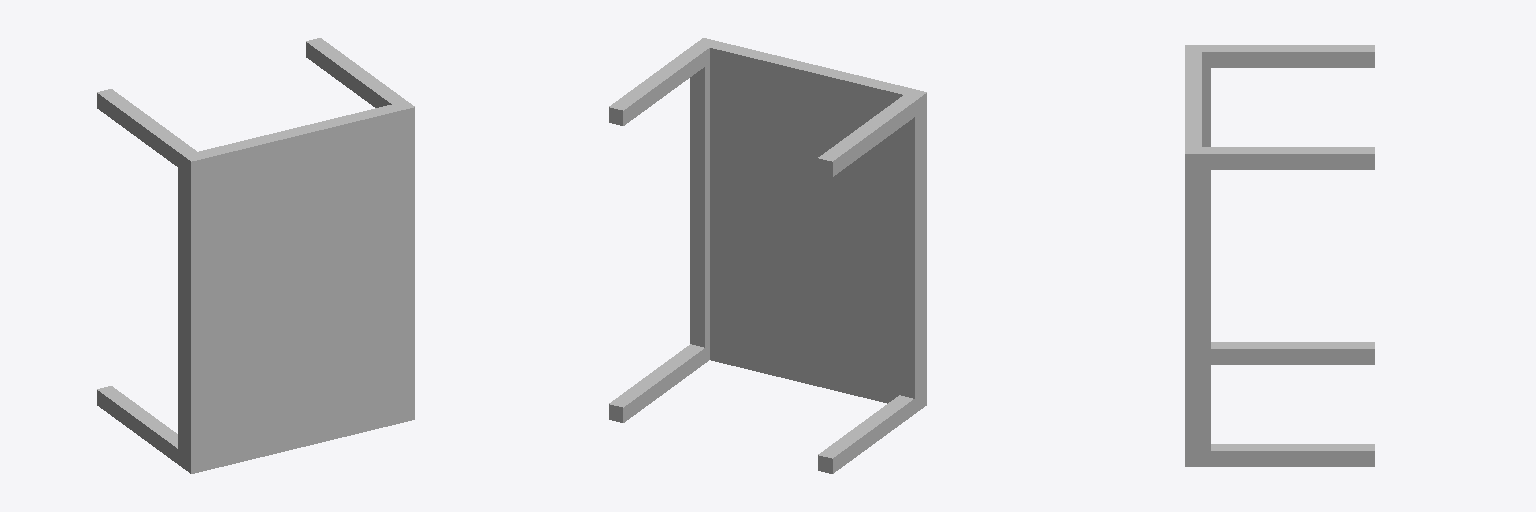
File: kitchen_table_rs_gb.obj
3 views of the same model, side by side, from view 1: azimuth 30°, elevation 25°; view 2: azimuth 150°, elevation 25°; view 3: azimuth 270°, elevation 25° (orthographic).
Parts seen in each view (by area): view 1: ____01; view 2: ____01; view 3: ____01.
Part boxes in pixels (x1,y1,x2,y2): ____01: (97, 38, 414, 473); ____01: (609, 38, 926, 473); ____01: (1185, 45, 1374, 466).
Bounding box in the file's own units: 1.5 × 2 × 1.1.